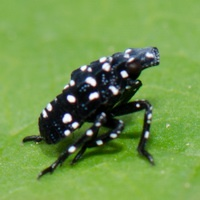insect: (23, 47, 159, 177)
